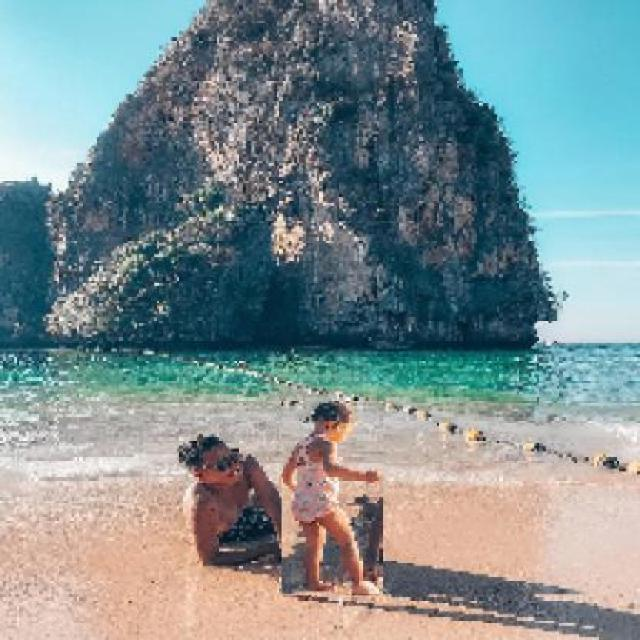child: (280, 400, 383, 597)
